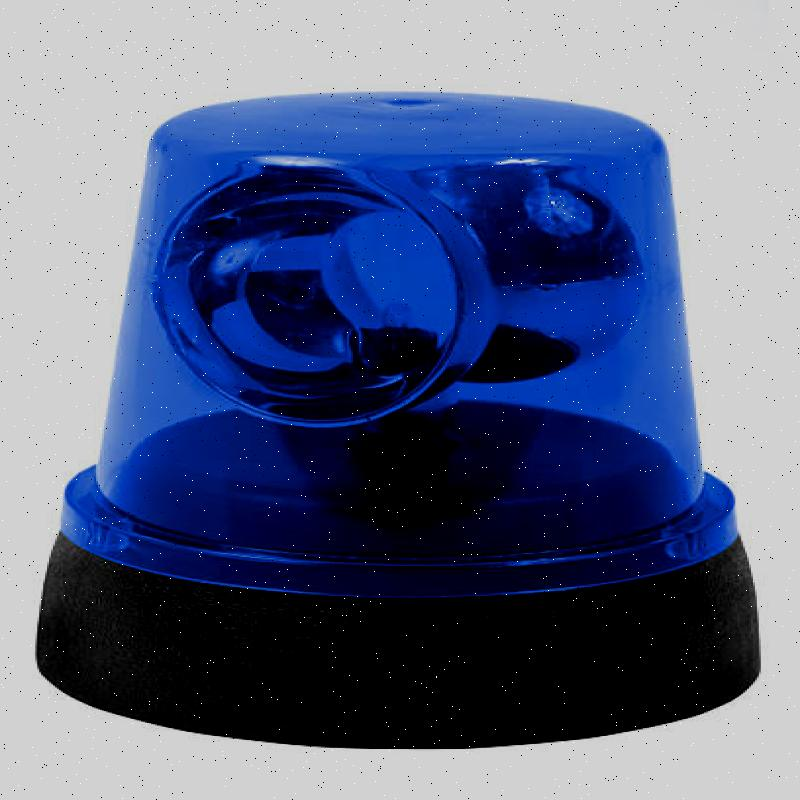AmbulanceSiren: (6, 51, 800, 727)
